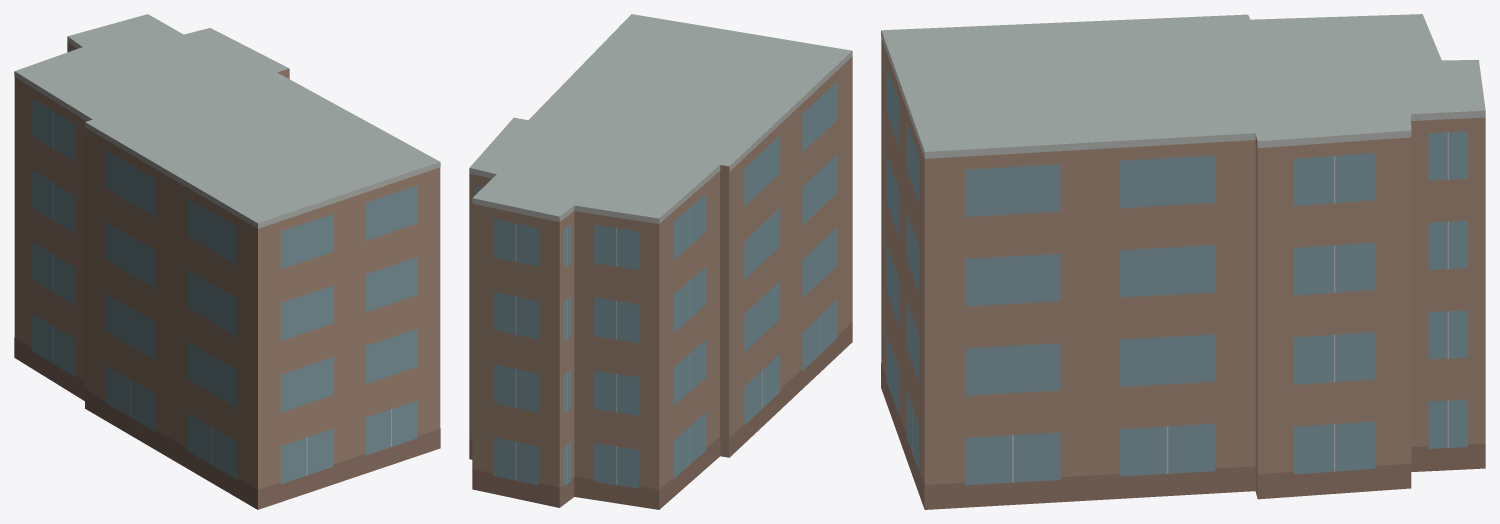
Rendered from survey-upis-32636860.glb.
The picture shows the model from 3 angles, left to right: view 1: azimuth 30°, elevation 25°; view 2: azimuth 150°, elevation 25°; view 3: azimuth 270°, elevation 25°; orthographic projection. The views are drawn at different scales.
Visible parts, largest first — view 1: survey-upis-32636860.tmp; view 2: survey-upis-32636860.tmp; view 3: survey-upis-32636860.tmp.
Boxes of the visible parts, x1,y1,x2,y2 form: survey-upis-32636860.tmp: (14, 14, 440, 509); survey-upis-32636860.tmp: (469, 14, 852, 509); survey-upis-32636860.tmp: (881, 14, 1485, 509).
Size of the model in its own units: 10.6 by 12.8 by 19.61.
